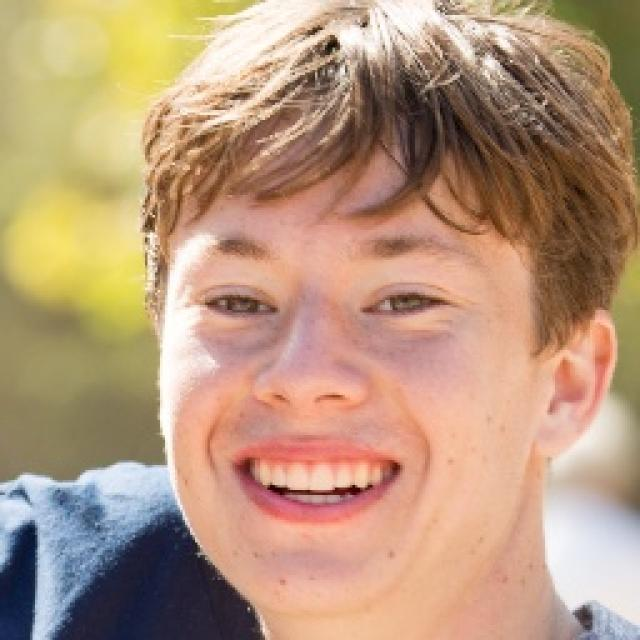earlobe: (535, 305, 618, 461)
